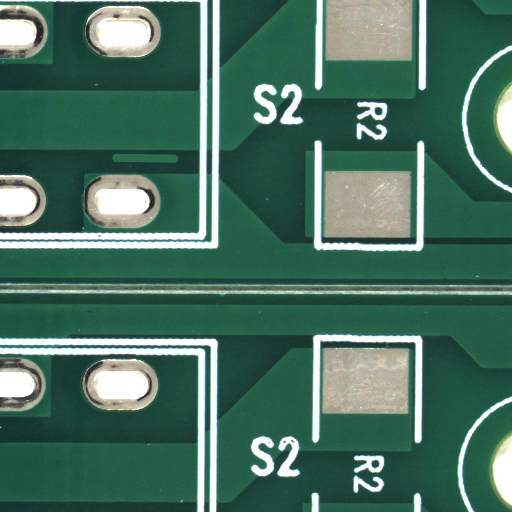Spurious_copper: (145, 157, 215, 172)
